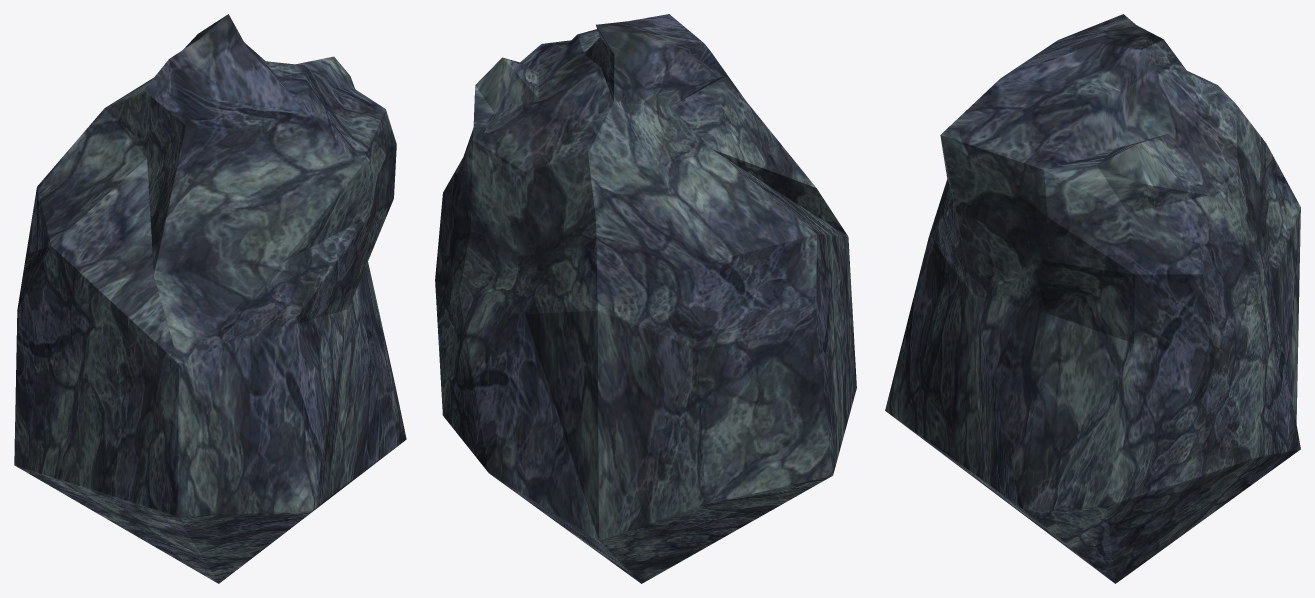
File: C4SNLARGEROCKB.obj
3 renders of one model, left to right at view 1: azimuth 30°, elevation 25°; view 2: azimuth 150°, elevation 25°; view 3: azimuth 270°, elevation 25°, orthographic. The views are drawn at different scales.
Parts seen in each view (by area): view 1: Node 0; view 2: Node 0; view 3: Node 0.
Boxes of the visible parts, x1,y1,x2,y2 form: Node 0: (14,14,406,583); Node 0: (435,14,856,583); Node 0: (885,14,1300,583).
Size of the model in its own units: 3.78 by 5.41 by 3.61.
Materials: 1 (1 with a texture image).
